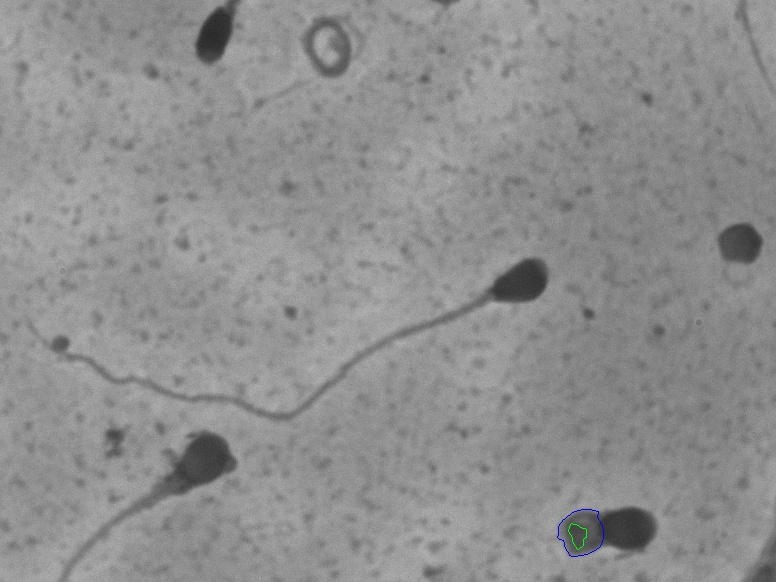Abnormal: (15, 240, 567, 440)
